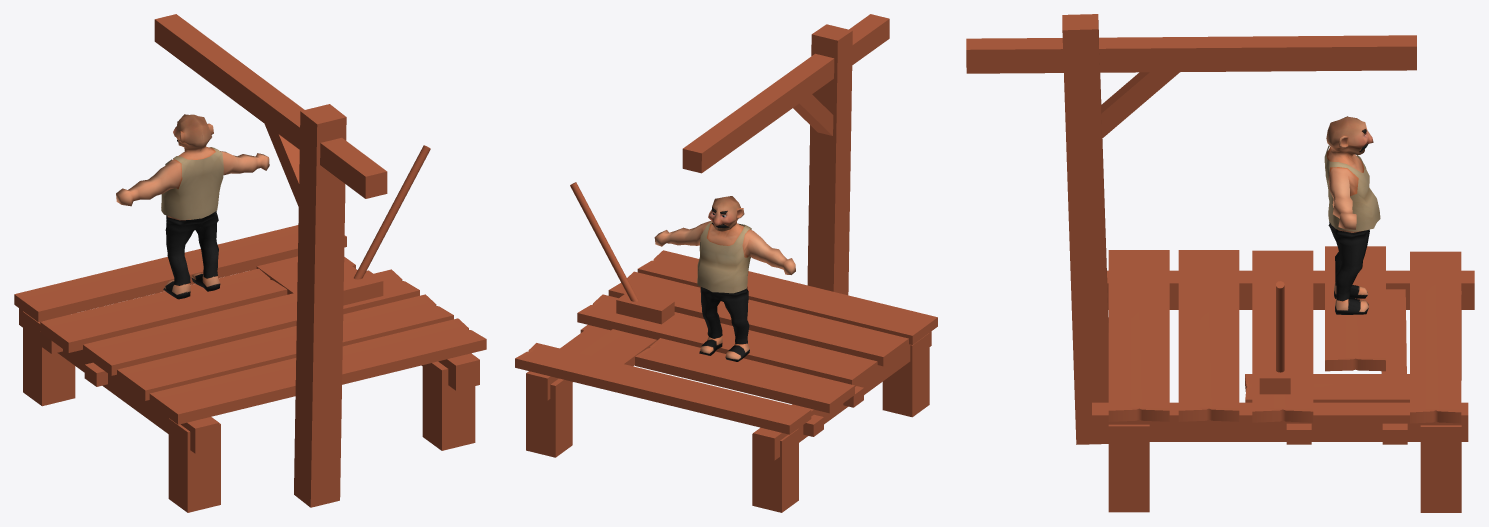
The model's file is pendu2Json.gltf.
The picture shows the model from 3 angles, left to right: view 1: azimuth 30°, elevation 25°; view 2: azimuth 150°, elevation 25°; view 3: azimuth 270°, elevation 25°; orthographic projection. The views are drawn at different scales.
Visible parts, largest first — view 1: Cube.015, Cube.007, Cube.018, Cube.006, Cube.016, Cube.008, Cube.009, Trappe, Cube.003, Cube.004, Cube.002, Cube.005 (+5 smaller); view 2: Cube.015, Cube.009, Cube.018, Cube.008, Cube.006, Cube.016, Trappe, Cube.007, Cube.001, Cube.002, Cube.004, Cube.005 (+5 smaller); view 3: Cube.015, Cube.016, Cube.006, Cube.007, Cube.009, Cube.008, Cube, Cube.018, Trappe, Cube.003, Cube.001, Cube.013 (+6 smaller).
Boxes of the visible parts, x1=… form: Cube.015: x1=294, y1=104, x2=346, y2=507; Cube.007: x1=149, y1=318, x2=486, y2=424; Cube.018: x1=116, y1=114, x2=269, y2=299; Cube.006: x1=117, y1=294, x2=453, y2=400; Cube.016: x1=154, y1=14, x2=387, y2=198; Cube.008: x1=83, y1=269, x2=419, y2=375; Cube.009: x1=14, y1=225, x2=346, y2=321; Trappe: x1=40, y1=268, x2=287, y2=352; Cube.003: x1=422, y1=361, x2=475, y2=450; Cube.004: x1=168, y1=418, x2=220, y2=512; Cube.002: x1=23, y1=311, x2=75, y2=406; Cube.005: x1=19, y1=308, x2=219, y2=453; Cube.015: x1=807, y1=24, x2=852, y2=295; Cube.009: x1=515, y1=343, x2=811, y2=434; Cube.018: x1=654, y1=196, x2=795, y2=361; Cube.008: x1=577, y1=294, x2=877, y2=386; Cube.006: x1=608, y1=271, x2=908, y2=366; Cube.016: x1=682, y1=14, x2=889, y2=173; Trappe: x1=635, y1=338, x2=854, y2=413; Cube.007: x1=637, y1=250, x2=937, y2=344; Cube.001: x1=526, y1=378, x2=572, y2=457; Cube.002: x1=752, y1=428, x2=798, y2=512; Cube.004: x1=882, y1=333, x2=929, y2=417; Cube.005: x1=753, y1=331, x2=931, y2=460; Cube.015: x1=1062, y1=14, x2=1108, y2=444; Cube.016: x1=966, y1=35, x2=1416, y2=73; Cube.006: x1=1178, y1=250, x2=1239, y2=421; Cube.007: x1=1108, y1=250, x2=1169, y2=421; Cube.009: x1=1410, y1=251, x2=1461, y2=423; Cube.008: x1=1252, y1=250, x2=1313, y2=422; Cube: x1=1092, y1=402, x2=1468, y2=441; Cube.018: x1=1324, y1=116, x2=1380, y2=314; Trappe: x1=1325, y1=246, x2=1385, y2=371; Cube.003: x1=1108, y1=424, x2=1149, y2=512; Cube.001: x1=1420, y1=425, x2=1461, y2=512; Cube.013: x1=1245, y1=374, x2=1409, y2=402.
Bounding box in the file's own units: 5.09 × 5.56 × 6.16.
2 materials, 1 textured.
